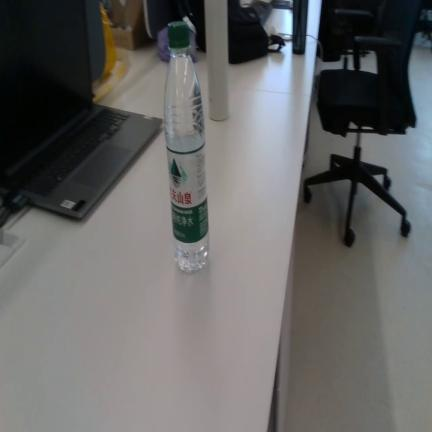bottle: (163, 21, 209, 273)
